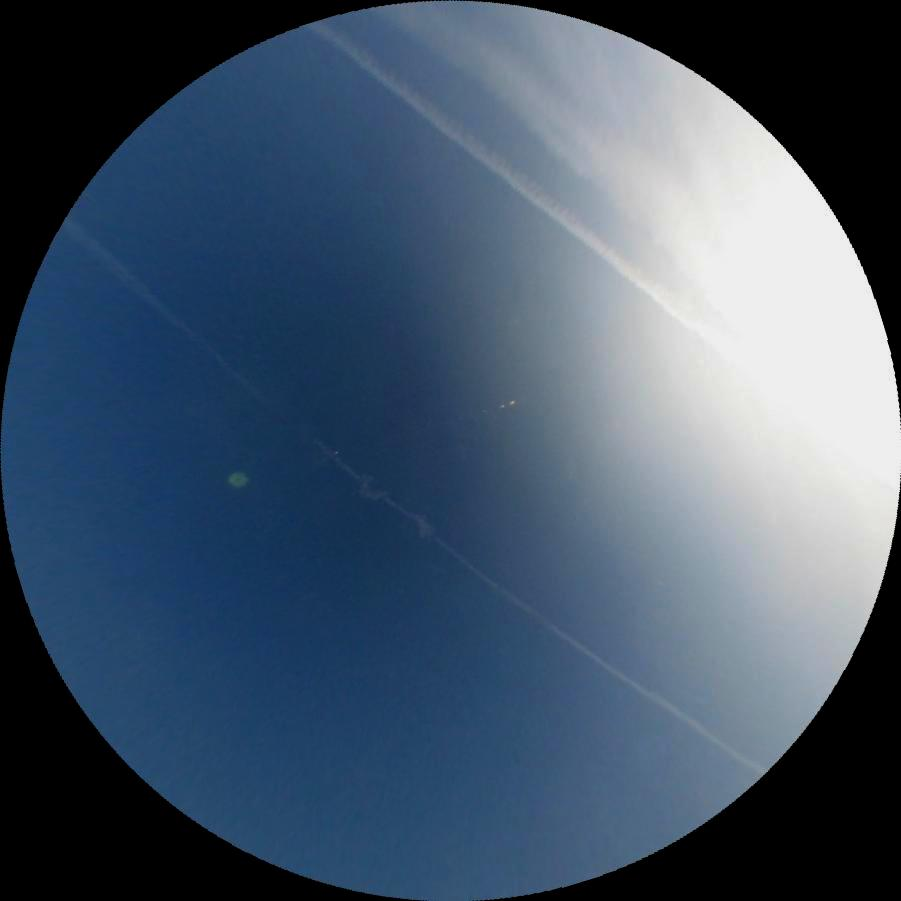contrail veryold: (45, 216, 767, 797), (304, 7, 738, 357)
